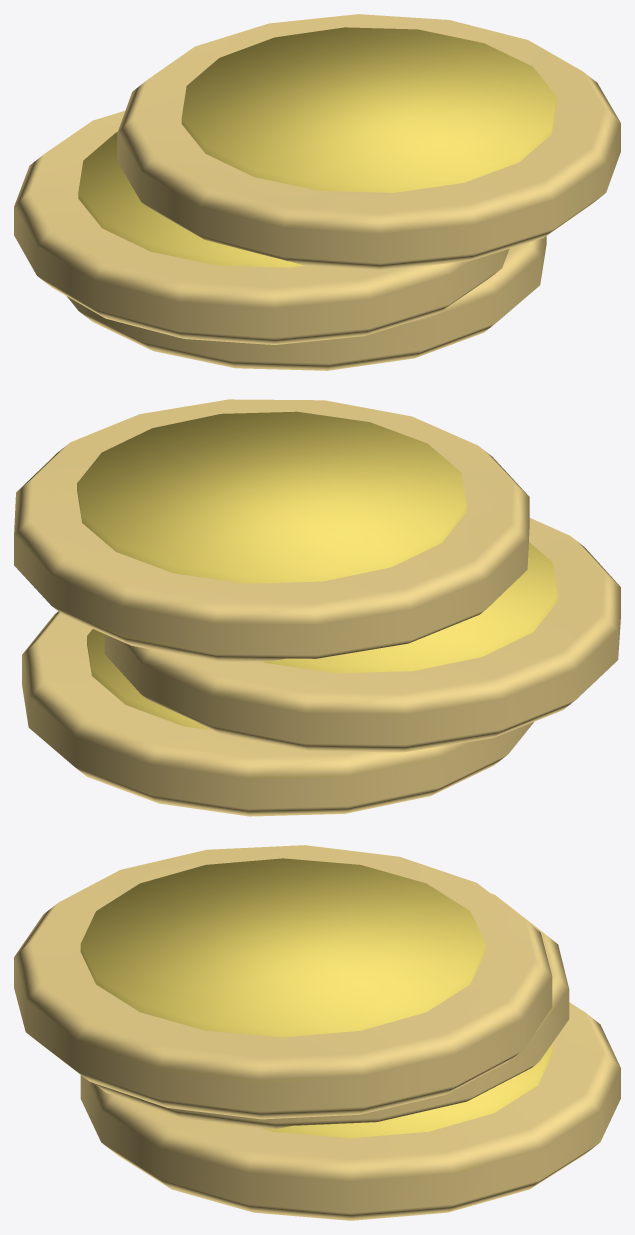
File: Vendor_Coins.fbx
3 renders of one model, top to bottom at view 1: azimuth 30°, elevation 25°; view 2: azimuth 150°, elevation 25°; view 3: azimuth 270°, elevation 25°, orthographic. The views are drawn at different scales.
Parts seen in each view (by area): view 1: Vendor_Coins; view 2: Vendor_Coins; view 3: Vendor_Coins.
Boxes of the visible parts, <box> form: Vendor_Coins: <box>14,14,620,370</box>; Vendor_Coins: <box>14,399,620,816</box>; Vendor_Coins: <box>14,845,620,1220</box>.
Bounding box in the file's own units: 0.0389 × 0.013 × 0.0359.
1 material, 1 textured.
